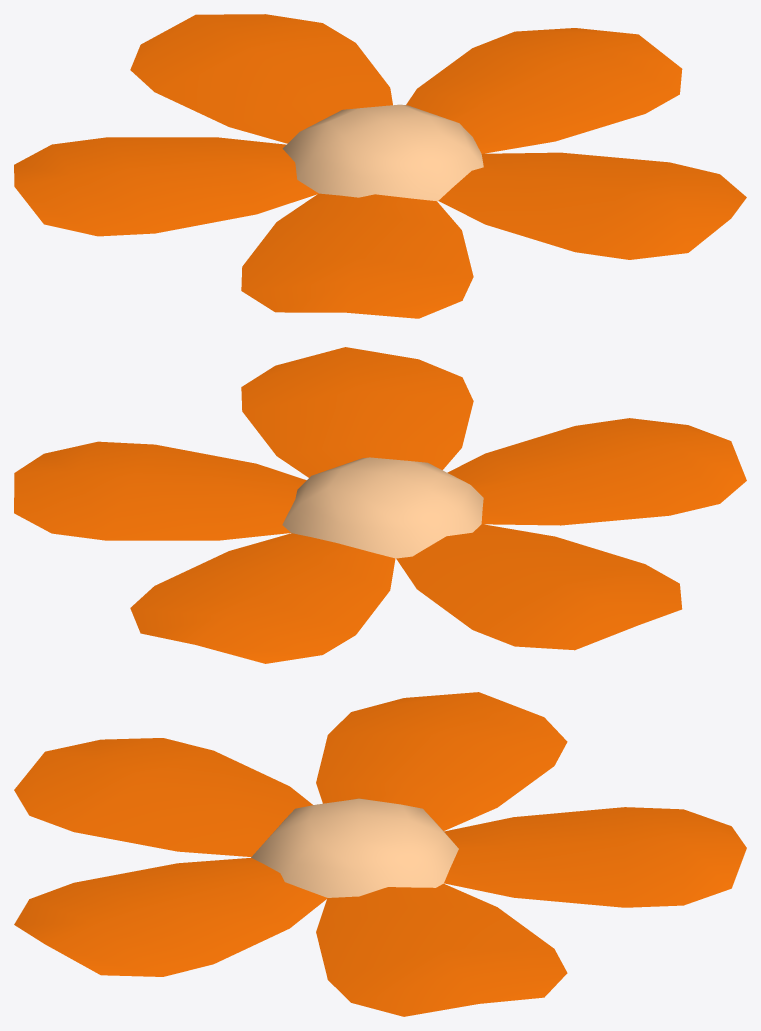
The model's file is Flower_04.fbx.
3 renders of one model, top to bottom at view 1: azimuth 30°, elevation 25°; view 2: azimuth 150°, elevation 25°; view 3: azimuth 270°, elevation 25°, orthographic. The views are drawn at different scales.
Parts seen in each view (by area): view 1: Flower_04; view 2: Flower_04; view 3: Flower_04.
Boxes of the visible parts, bbox=[...] form: Flower_04: bbox=[14, 14, 746, 318]; Flower_04: bbox=[14, 347, 746, 663]; Flower_04: bbox=[14, 692, 746, 1016].
Size of the model in its own units: 39.7 by 2.5 by 38.56.
